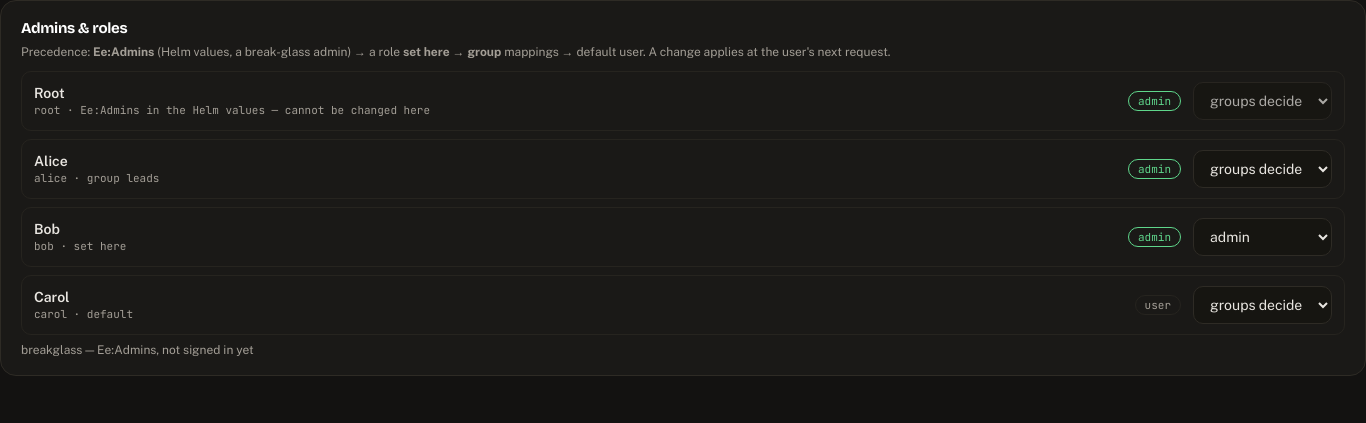
Scenario: UserRolesCard › shows the last-admin refusal and restores the stored role
Select "user" in the dropdown in the row of "bob · set here" at [1262, 237], box top-left (1193, 218), bottom-right (1332, 256)
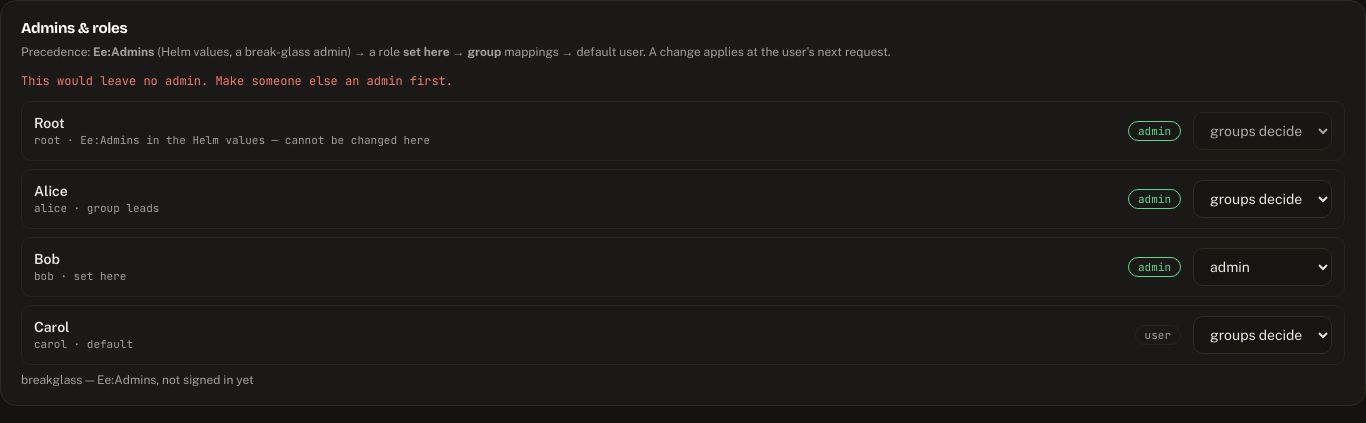
Check: the text "This would leave no admin. Make someone else an admin first." is shown, box top-left (21, 73), bottom-right (453, 89)
